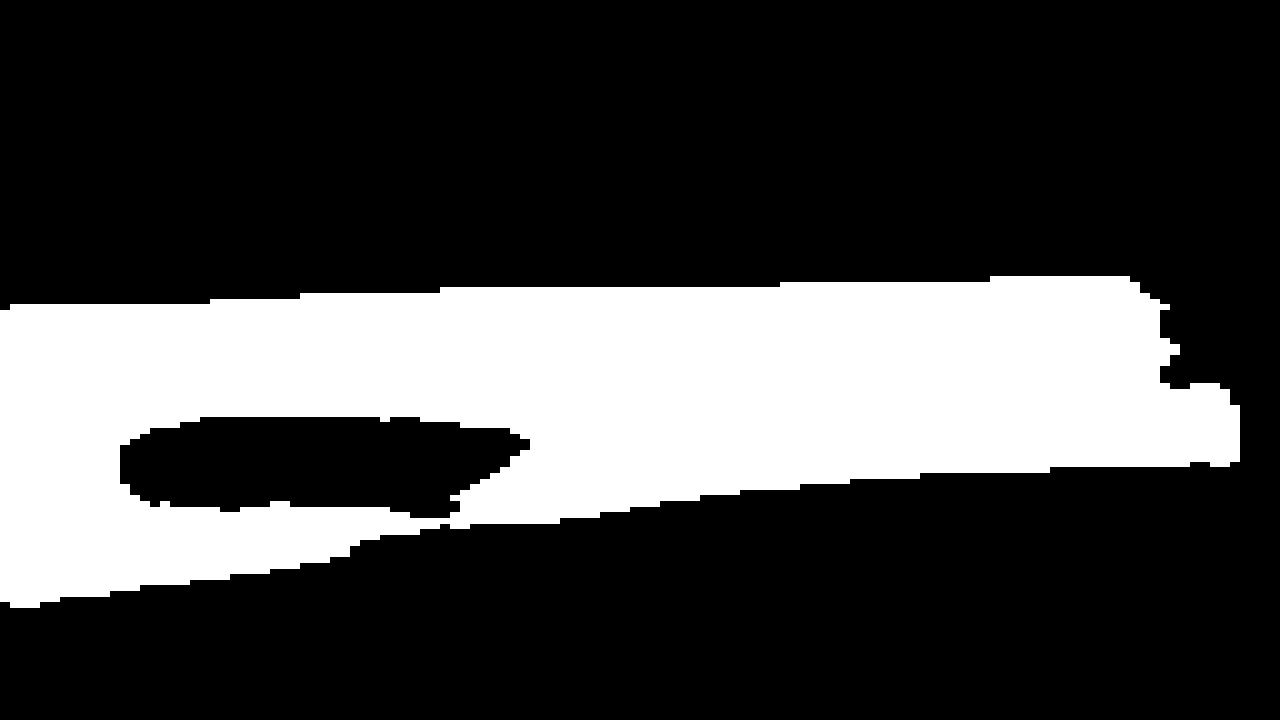Turbine: (5, 248, 1246, 604)
